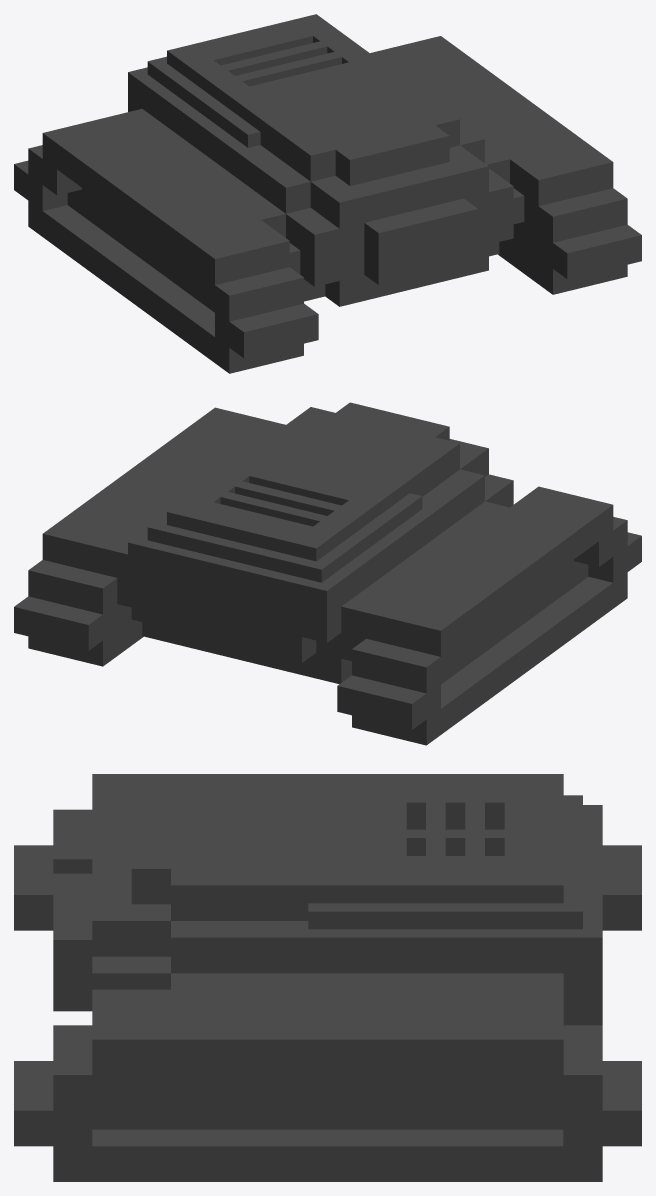
Rendered from LightTank-2.obj.
3 views of the same model, one above another, from view 1: azimuth 30°, elevation 25°; view 2: azimuth 150°, elevation 25°; view 3: azimuth 270°, elevation 25° (orthographic). The views are drawn at different scales.
Size of the model in its own units: 3.2 by 1.2 by 3.2.
